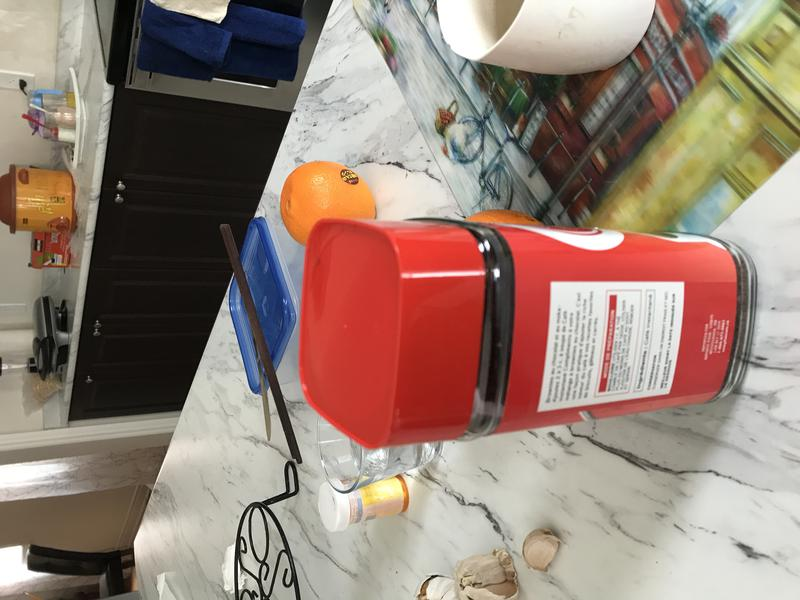orange: (275, 154, 380, 249)
